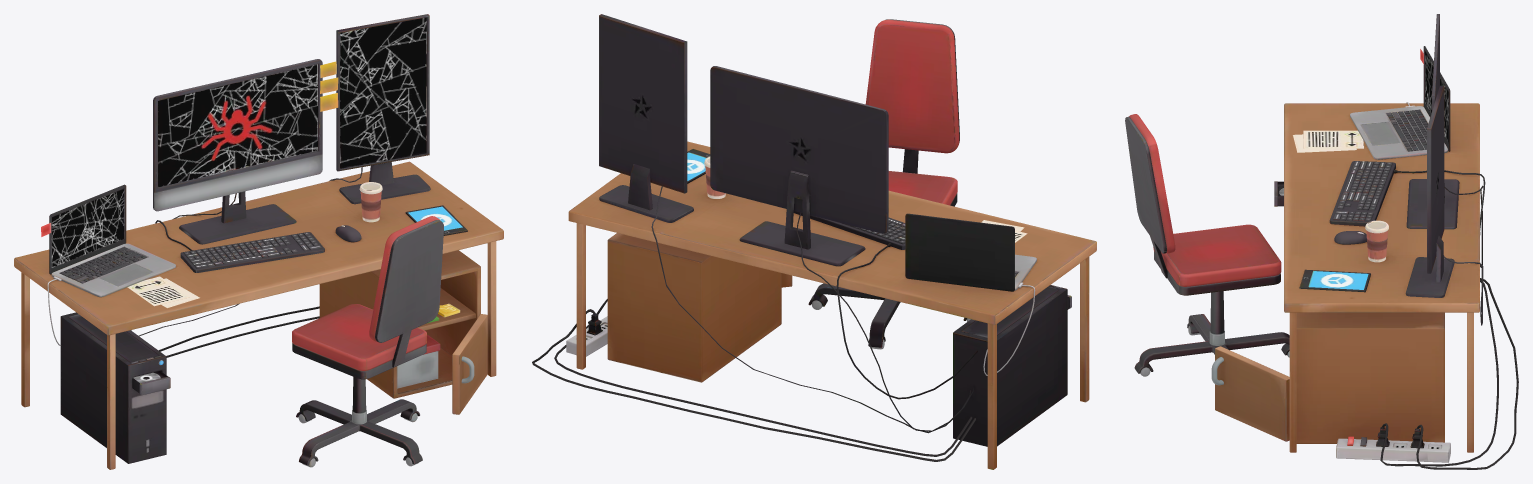
3 views of the same model, side by side, from view 1: azimuth 30°, elevation 25°; view 2: azimuth 150°, elevation 25°; view 3: azimuth 270°, elevation 25° (orthographic). The views are drawn at different scales.
Visible parts, largest first — view 1: Final_lambert1_0; view 2: Final_lambert1_0; view 3: Final_lambert1_0.
Part boxes in pixels (x1,y1,x2,y2): Final_lambert1_0: [14, 14, 503, 469]; Final_lambert1_0: [532, 14, 1096, 469]; Final_lambert1_0: [1125, 14, 1518, 469].
Bounding box in the file's own units: 2.36 × 1.64 × 1.81.
1 material, 1 textured.
